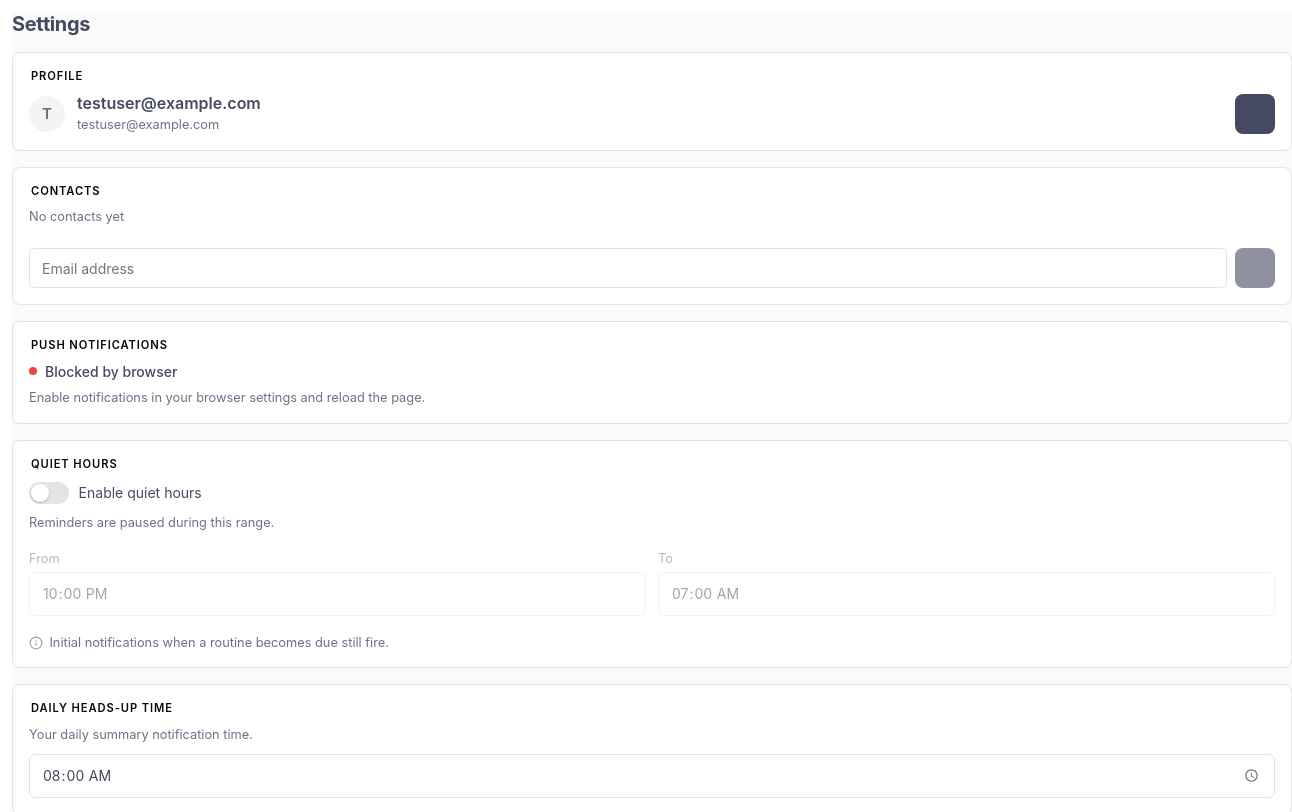
SettingsPage › shows the already-a-contact error when the backend returns 400 with that detail
This screenshot has width=1292, height=812.
Expected: the text "Contacts" is shown, [31, 184, 100, 198]
In the field with test id "add-contact-email": (628,268) [29, 248, 1227, 288], type "bob@example.com"
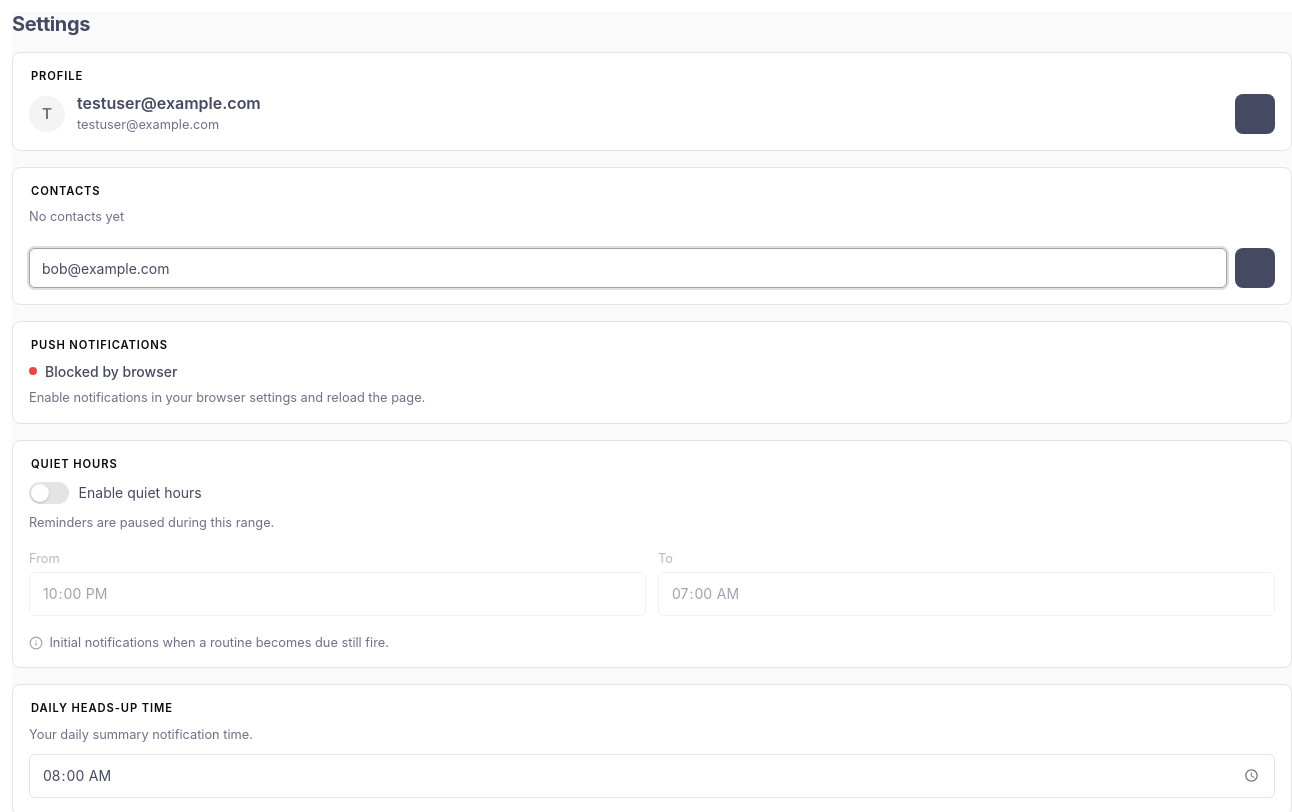
Click the button with test id "add-contact-submit": (1255,268) [1235, 248, 1275, 288]
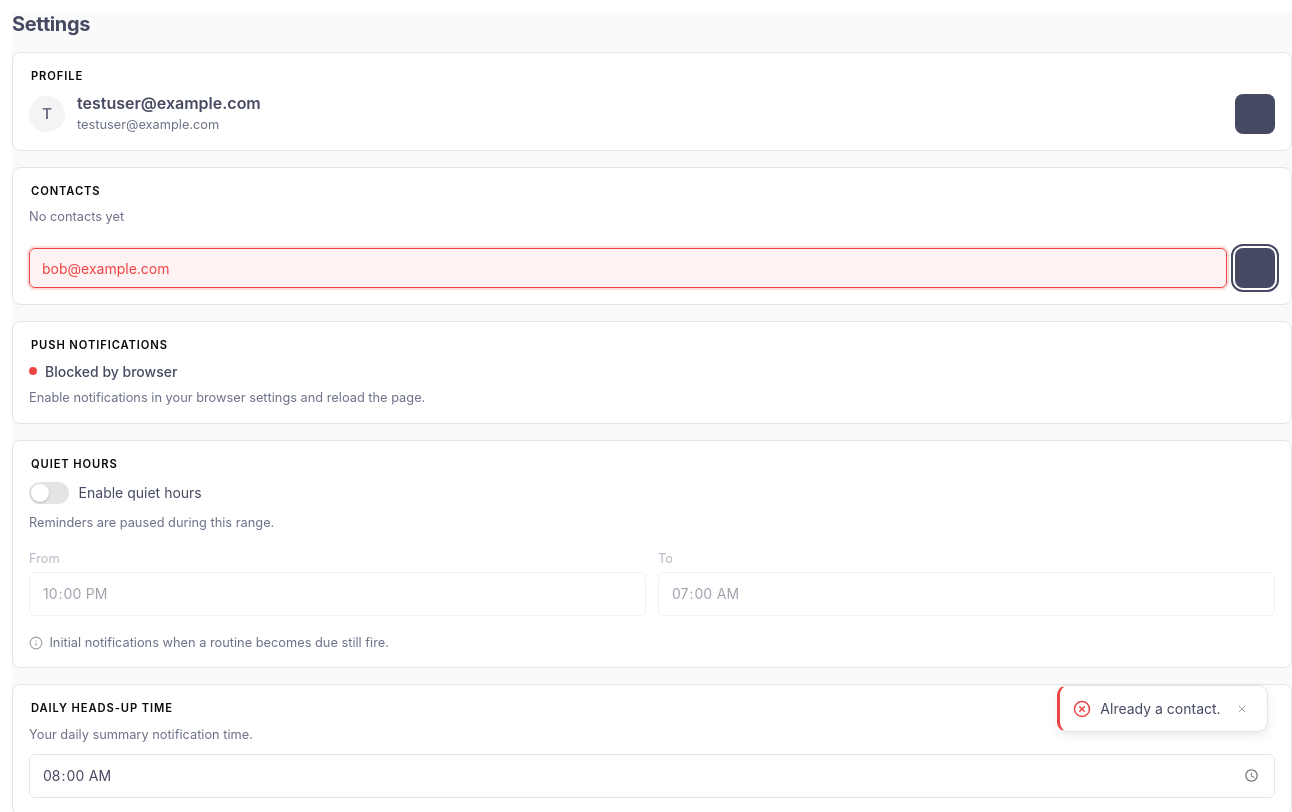
Now the text "Already a contact." is shown, box [1100, 700, 1221, 718]
